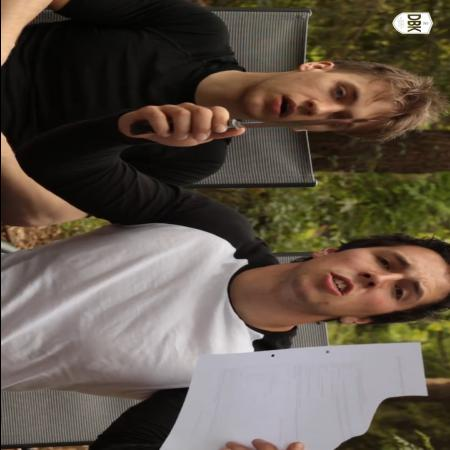long weapon: (163, 113, 391, 141)
